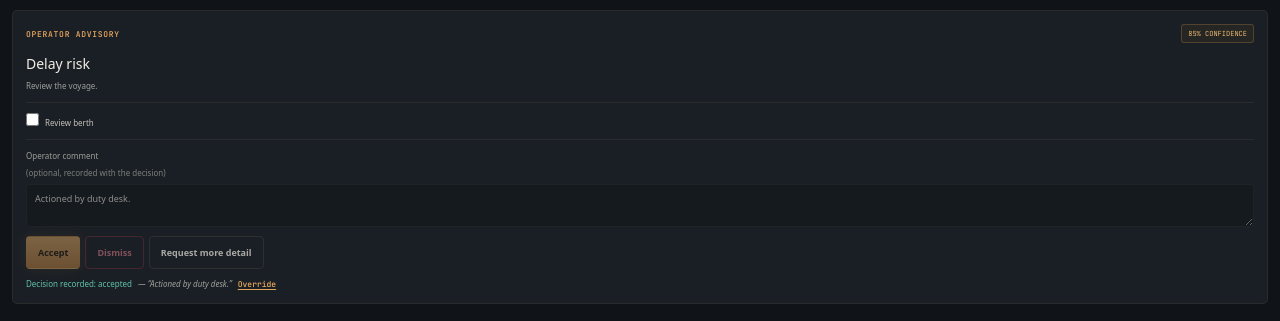
Test: AdvisoryCard › locks controls for a run that was already decided in an earlier session
Expected: the button "Accept" is disabled, [26, 236, 80, 269]
Expected: the button "Dismiss" is disabled, [85, 236, 144, 269]
Click the button "Override" at (257, 284), box [238, 279, 276, 289]
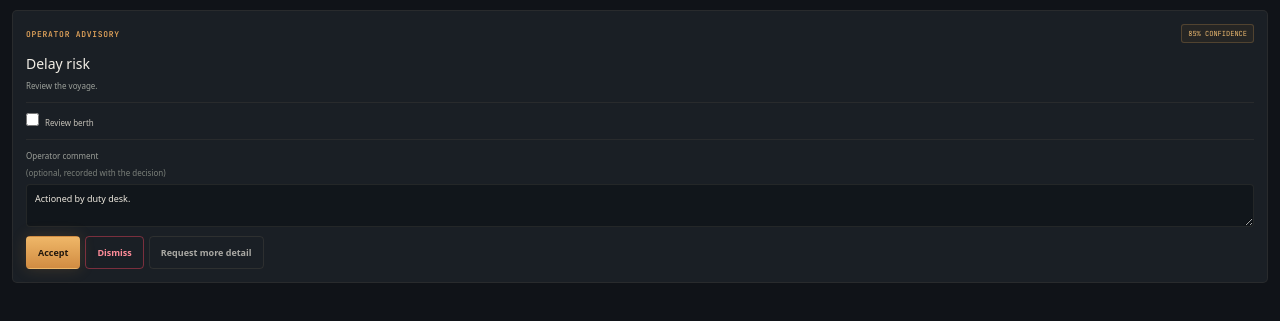
Now the button "Dismiss" is enabled, box [85, 236, 144, 269]
